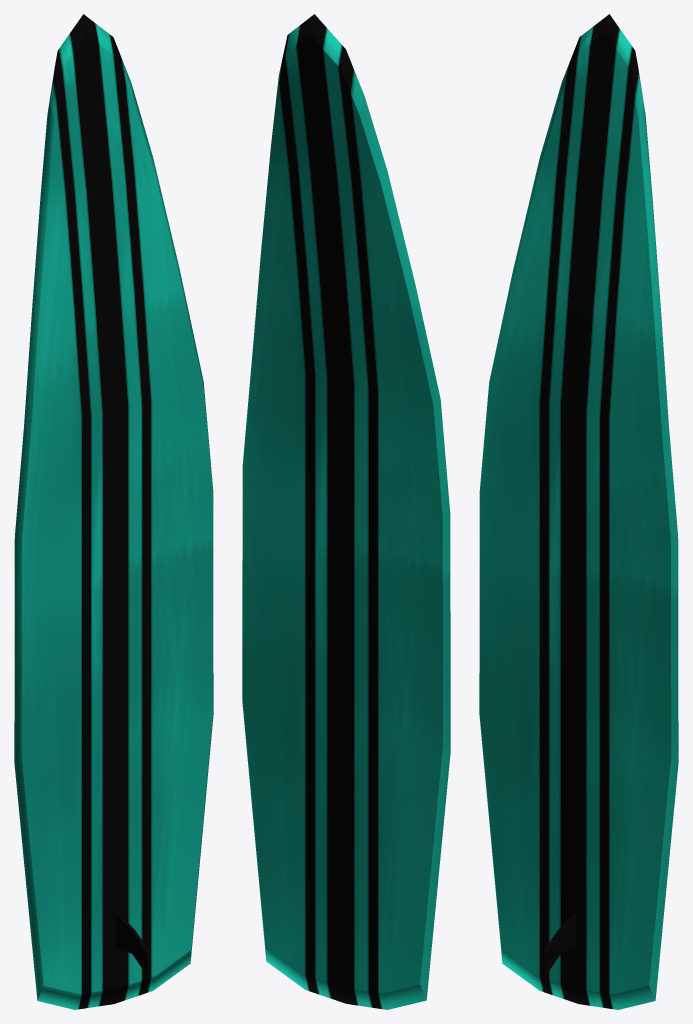
The model's file is SurfBoard.fbx.
3 renders of one model, left to right at view 1: azimuth 30°, elevation 25°; view 2: azimuth 150°, elevation 25°; view 3: azimuth 330°, elevation 25°, orthographic. The views are drawn at different scales.
Visible parts, largest first — view 1: surfBoard1; view 2: surfBoard1; view 3: surfBoard1.
Part boxes in pixels (x1,y1,x2,y2): surfBoard1: [14, 14, 213, 1009]; surfBoard1: [242, 14, 450, 1009]; surfBoard1: [479, 14, 678, 1009].
Size of the model in its own units: 44.86 by 208 by 27.05.
